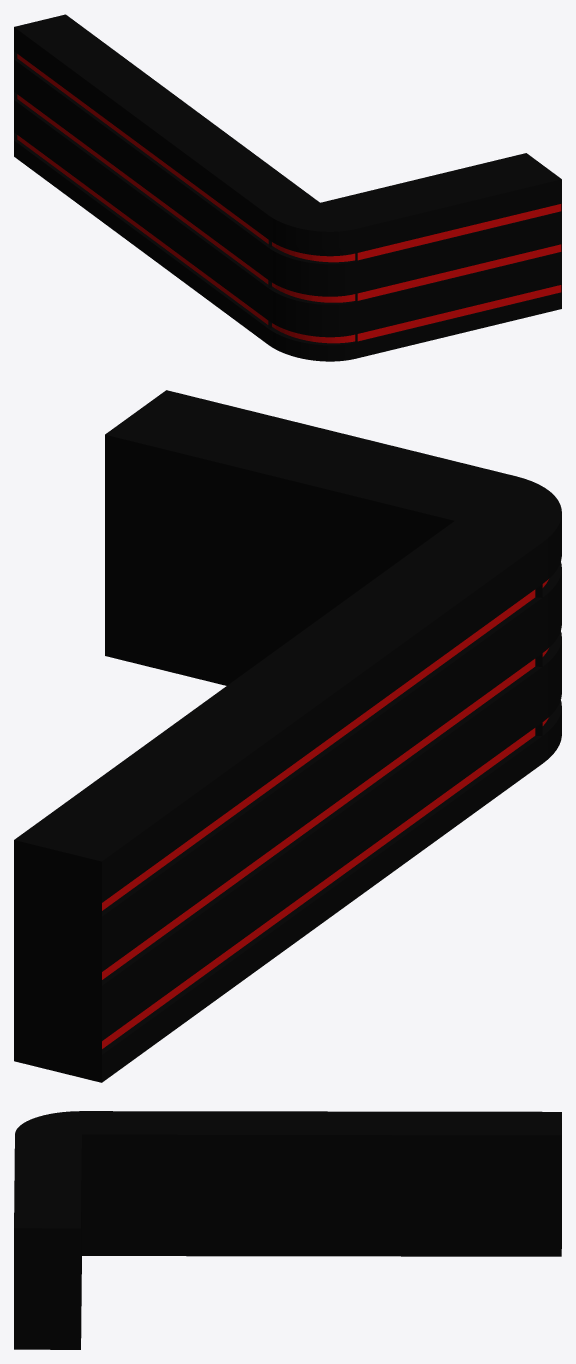
The model's file is Cash desk.fbx.
The picture shows the model from 3 angles, top to bottom: view 1: azimuth 30°, elevation 25°; view 2: azimuth 150°, elevation 25°; view 3: azimuth 270°, elevation 25°; orthographic projection. The views are drawn at different scales.
Parts seen in each view (by area): view 1: Cash_desk; view 2: Cash_desk; view 3: Cash_desk.
Part boxes in pixels (<box>): Cash_desk: <box>14,14,561,361</box>; Cash_desk: <box>14,390,561,1082</box>; Cash_desk: <box>14,1111,561,1349</box>.
Size of the model in its own units: 494 by 239 by 975.
